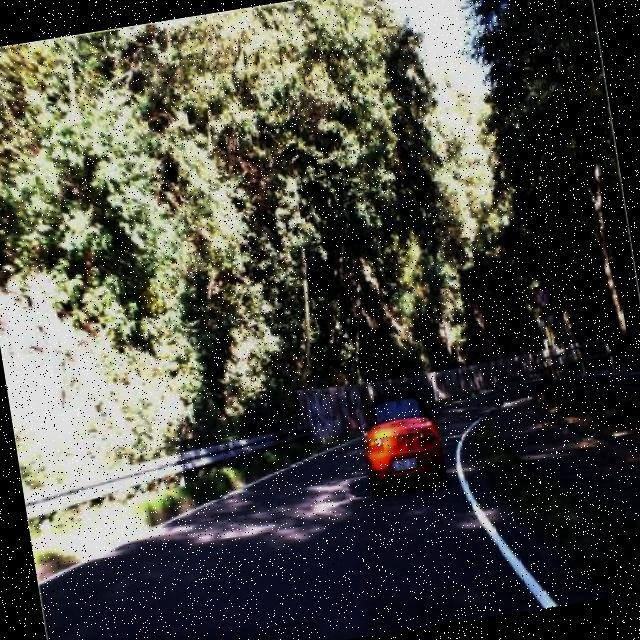Ograniczenie predkosci do 50: (530, 281, 554, 311)
